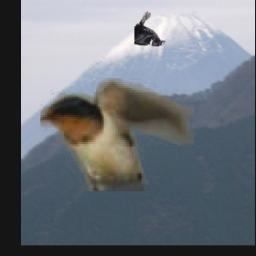Crow: (134, 12, 165, 47)
Swallow: (40, 79, 194, 192)
